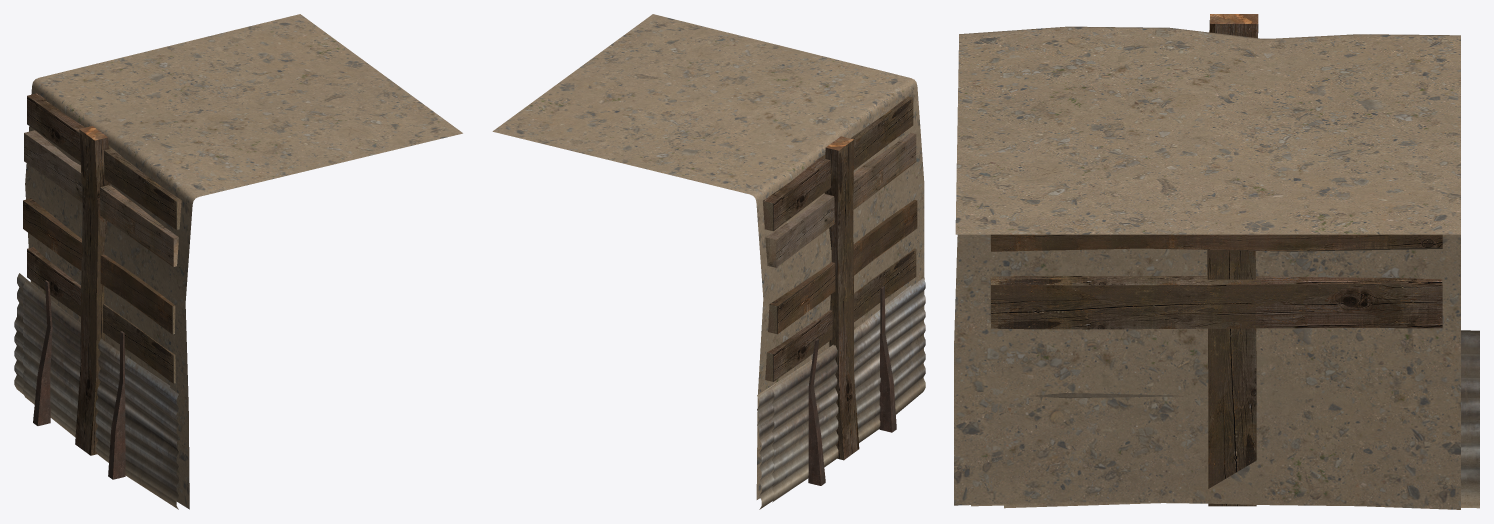
The model's file is section_2.fbx.
3 views of the same model, side by side, from view 1: azimuth 30°, elevation 25°; view 2: azimuth 150°, elevation 25°; view 3: azimuth 270°, elevation 25° (orthographic). The views are drawn at different scales.
Visible parts, largest first — view 1: Box082, Object003, Box089, Box088, Box090, Box087, Box086, Object005, Box084, Box092; view 2: Box082, Object003, Box089, Box088, Box090, Box087, Box086, Object005, Box084, Box092; view 3: Box082, Box086, Box089, Box087, Object005.
Boxes of the visible parts, box(x1,y1,x2,y2) form: Box082: box(25, 14, 462, 509); Object003: box(23, 282, 178, 509); Box089: box(75, 126, 110, 455); Box088: box(24, 130, 178, 266); Box090: box(27, 93, 181, 229); Box087: box(23, 198, 175, 334); Box086: box(27, 247, 175, 383); Object005: box(14, 273, 170, 400); Box084: box(108, 331, 125, 479); Box092: box(33, 280, 52, 425); Box082: box(492, 14, 924, 499); Object003: box(772, 278, 925, 502); Box089: box(824, 136, 859, 460); Box088: box(765, 133, 916, 267); Box090: box(763, 96, 913, 231); Box087: box(768, 200, 917, 334); Box086: box(765, 248, 916, 381); Object005: box(757, 285, 911, 509); Box084: box(879, 286, 896, 432); Box092: box(808, 338, 825, 485); Box082: box(954, 26, 1460, 509); Box086: box(990, 275, 1442, 329); Box089: box(1207, 14, 1258, 506); Box087: box(990, 234, 1442, 251); Object005: box(1004, 330, 1479, 508).
Bounding box in the file's own units: 373 × 375 × 365.
